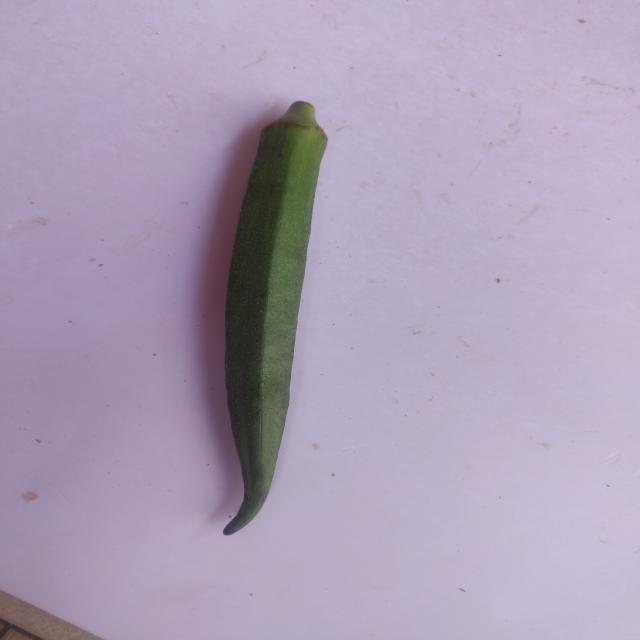Ladies Finger: (206, 82, 338, 563)
